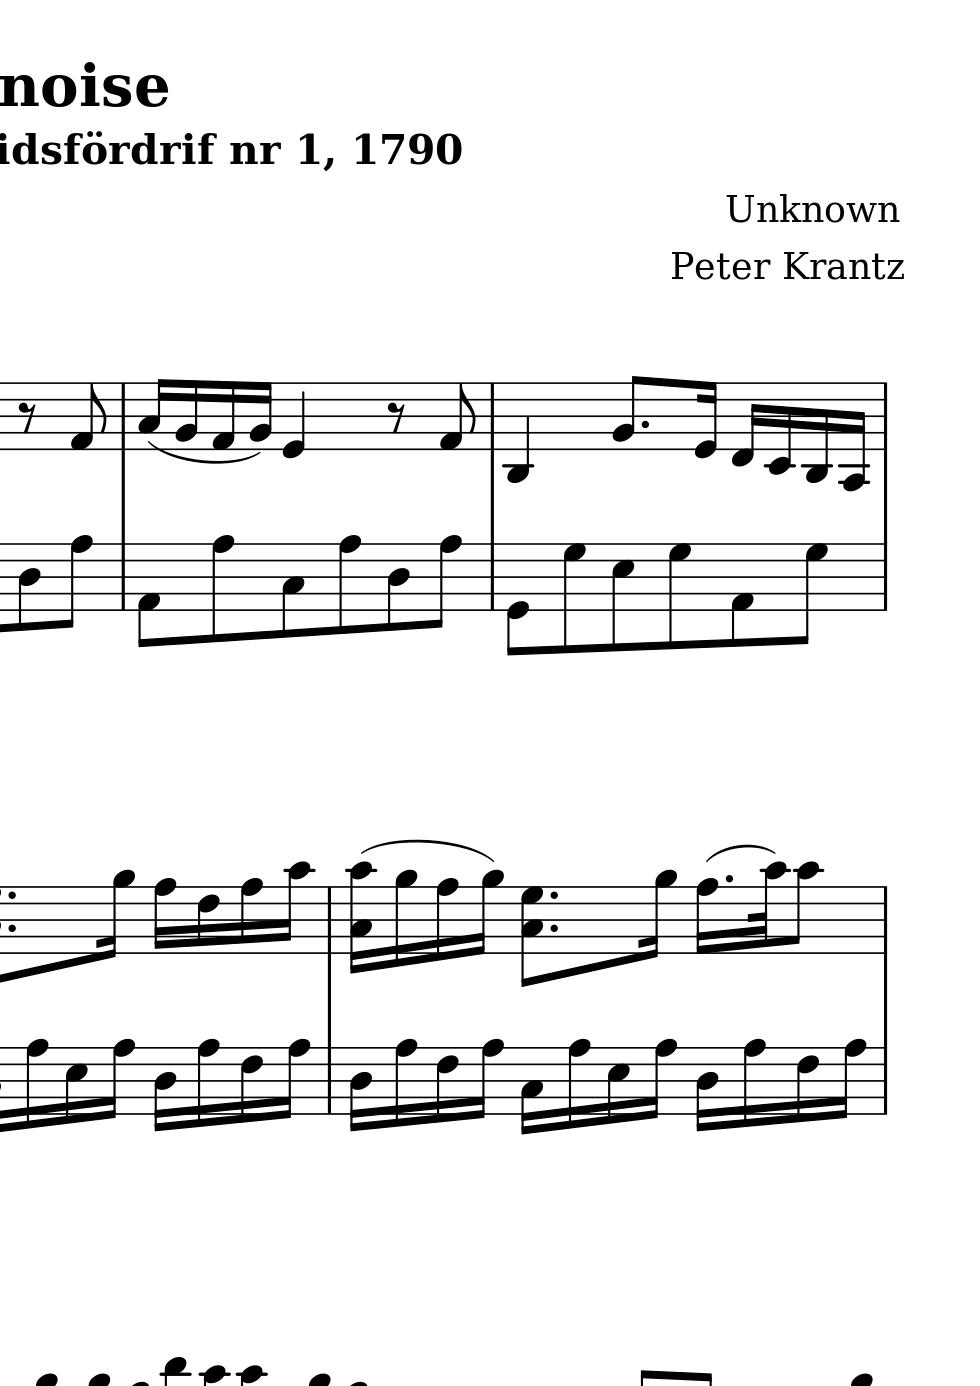16_-1: (729, 382, 760, 470)
16_-2: (767, 381, 792, 477)
16_-3: (803, 381, 832, 484)
16_-4: (838, 380, 868, 493)
16_0: (692, 380, 719, 460)
16_1: (209, 379, 237, 453)
16_10: (278, 861, 312, 957)
16_2: (174, 378, 199, 450), (247, 380, 272, 451)
16_3: (518, 1046, 543, 1137), (136, 378, 167, 451)
16_4: (151, 1045, 176, 1133), (693, 1045, 718, 1133), (347, 1045, 372, 1131)
16_5: (603, 1045, 630, 1125), (63, 1045, 88, 1125)
16_6: (238, 1045, 263, 1124), (434, 1045, 459, 1124), (794, 1045, 819, 1125), (195, 884, 220, 955)
16_8: (100, 1037, 135, 1120), (470, 1037, 504, 1120), (832, 1038, 865, 1120), (643, 1037, 676, 1120), (276, 1038, 309, 1120), (23, 1037, 48, 1131), (194, 1036, 218, 1129), (565, 1037, 590, 1130), (740, 1037, 765, 1130), (392, 1037, 417, 1129), (237, 877, 263, 957), (151, 877, 177, 955), (693, 877, 718, 957), (435, 877, 457, 962)
16_9: (98, 869, 134, 960), (641, 869, 676, 961), (473, 869, 503, 957), (393, 869, 417, 968)
32_10: (751, 860, 787, 957)
4_-3: (504, 379, 532, 486)
4_0: (280, 382, 307, 460)
8_0: (504, 542, 530, 657)
8_1: (727, 541, 754, 649), (68, 381, 108, 451), (135, 542, 160, 649), (436, 382, 475, 451)
8_10: (789, 860, 819, 957)
8_2: (610, 374, 642, 451)
8_3: (278, 541, 305, 641)
8_4: (385, 541, 410, 633), (16, 542, 41, 633)
8_5: (609, 540, 634, 654)
8_7: (560, 541, 587, 655), (665, 541, 692, 652)
8_8: (791, 540, 827, 647), (57, 533, 92, 631), (425, 534, 460, 632), (332, 532, 360, 637), (209, 534, 233, 646)
Rests8: (385, 400, 407, 435), (16, 400, 38, 434)
Single_barline: (113, 382, 132, 451), (113, 544, 132, 609), (484, 383, 500, 451), (321, 887, 337, 954), (321, 1047, 337, 1115), (877, 887, 892, 954), (877, 544, 892, 611), (484, 544, 498, 610), (878, 382, 892, 452), (878, 1047, 892, 1115)
Slur: (360, 837, 496, 864), (144, 441, 259, 464), (705, 844, 775, 859)
dot: (546, 888, 560, 903), (5, 887, 19, 901), (546, 920, 560, 935), (5, 922, 18, 934), (638, 417, 650, 431), (723, 872, 734, 885)
